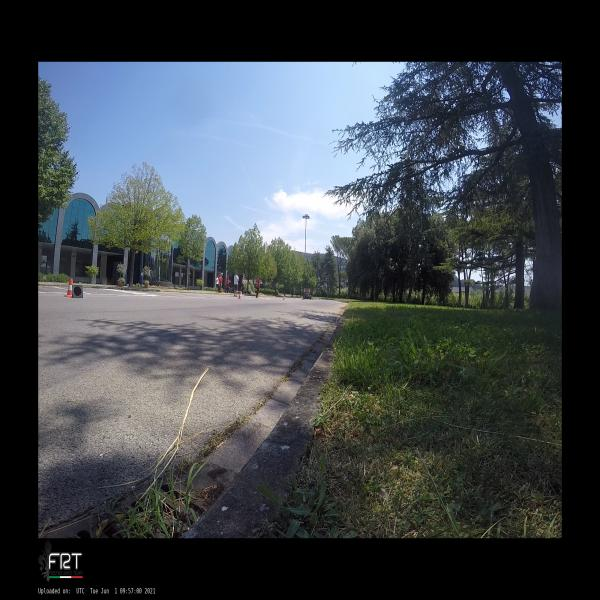orange_cone: (64, 278, 72, 297), (237, 291, 242, 299)
unknown_cone: (72, 285, 83, 298)
